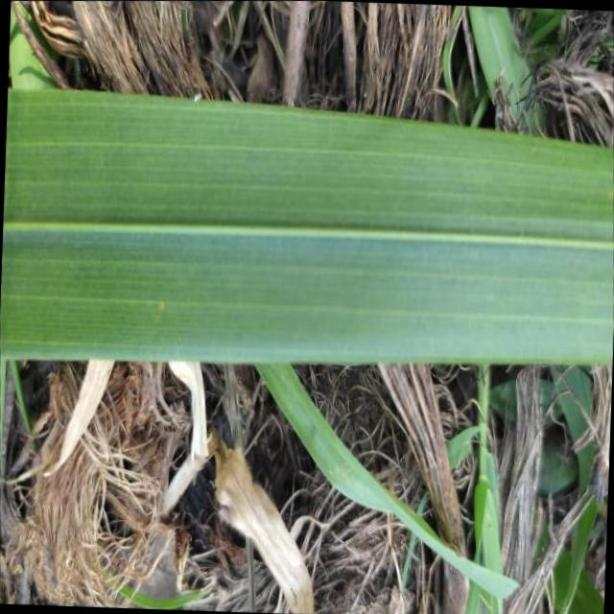Healthy: (0, 88, 614, 364)
